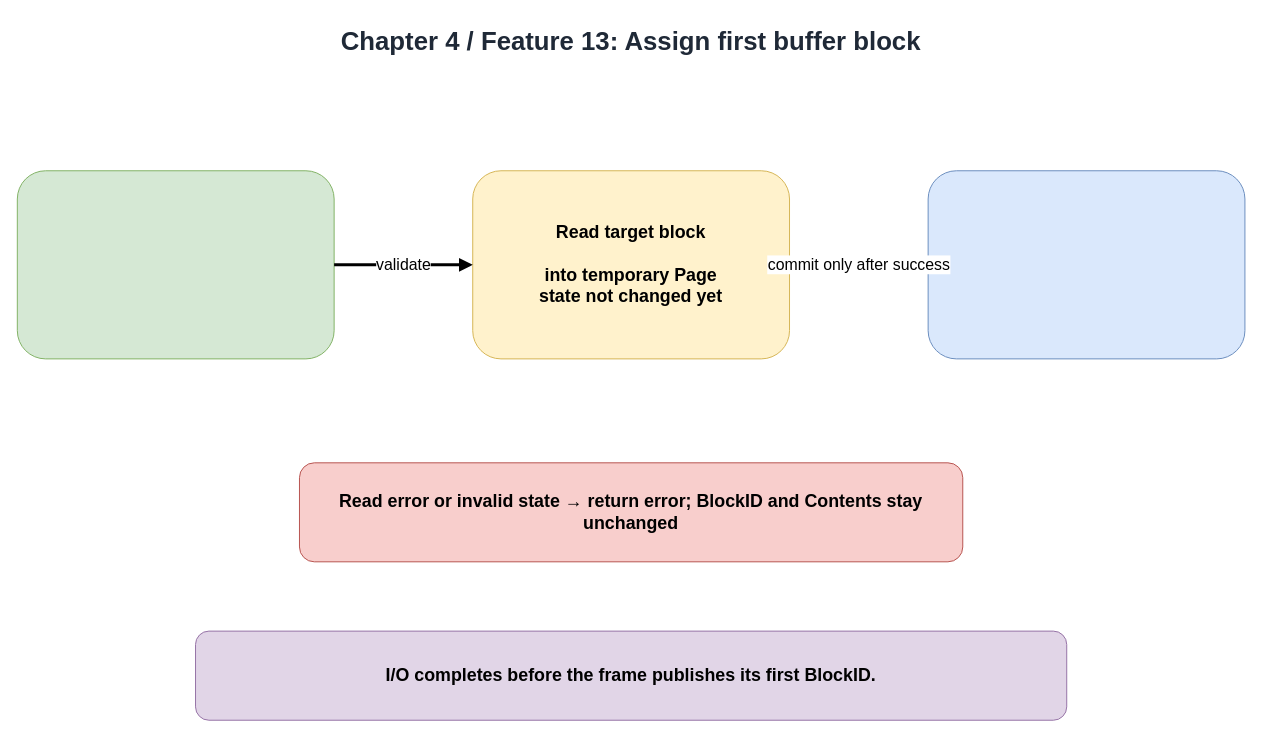
Some shapes in this 1262 by 738 pixel diagram are drawn without their labels. The shapes that lost their labels are listed below. From the top down, each one's centre as x and y in pixels, then its label:
At (x=175, y=264): "Unassigned Buffer clean · pin count 0 zero-filled contents".
At (x=1086, y=264): "Assigned Buffer BlockID = target Contents = disk Page".
